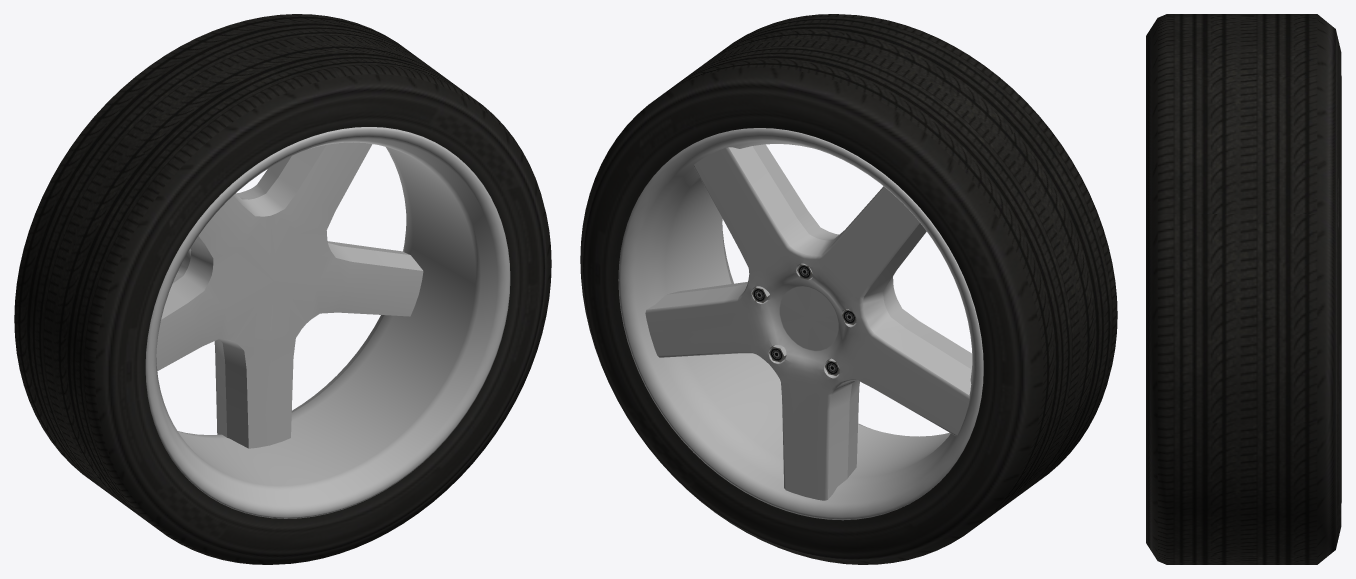
3 views of the same model, side by side, from view 1: azimuth 30°, elevation 25°; view 2: azimuth 150°, elevation 25°; view 3: azimuth 270°, elevation 25° (orthographic). The views are drawn at different scales.
Parts seen in each view (by area): view 1: U236_17_901C_L_1_DM_U236_17_901C_L, U236_17_901C_L_U236_17_901C_L_2_DaS; view 2: U236_17_901C_L_1_DM_U236_17_901C_L, U236_17_901C_L_U236_17_901C_L_2_DaS, U236_17_901C_L_U236_17_901C_L_3_D; view 3: U236_17_901C_L_1_DM_U236_17_901C_L, U236_17_901C_L_U236_17_901C_L_2_DaS.
Boxes of the visible parts, bbox=[...] form: U236_17_901C_L_1_DM_U236_17_901C_L: bbox=[14, 14, 551, 564]; U236_17_901C_L_U236_17_901C_L_2_DaS: bbox=[145, 127, 510, 518]; U236_17_901C_L_1_DM_U236_17_901C_L: bbox=[580, 14, 1117, 564]; U236_17_901C_L_U236_17_901C_L_2_DaS: bbox=[618, 128, 983, 520]; U236_17_901C_L_U236_17_901C_L_3_D: bbox=[752, 264, 856, 375]; U236_17_901C_L_1_DM_U236_17_901C_L: bbox=[1146, 14, 1341, 564]; U236_17_901C_L_U236_17_901C_L_2_DaS: bbox=[1341, 75, 1341, 503].
Size of the model in its own units: 68.57 by 68.57 by 24.38.
